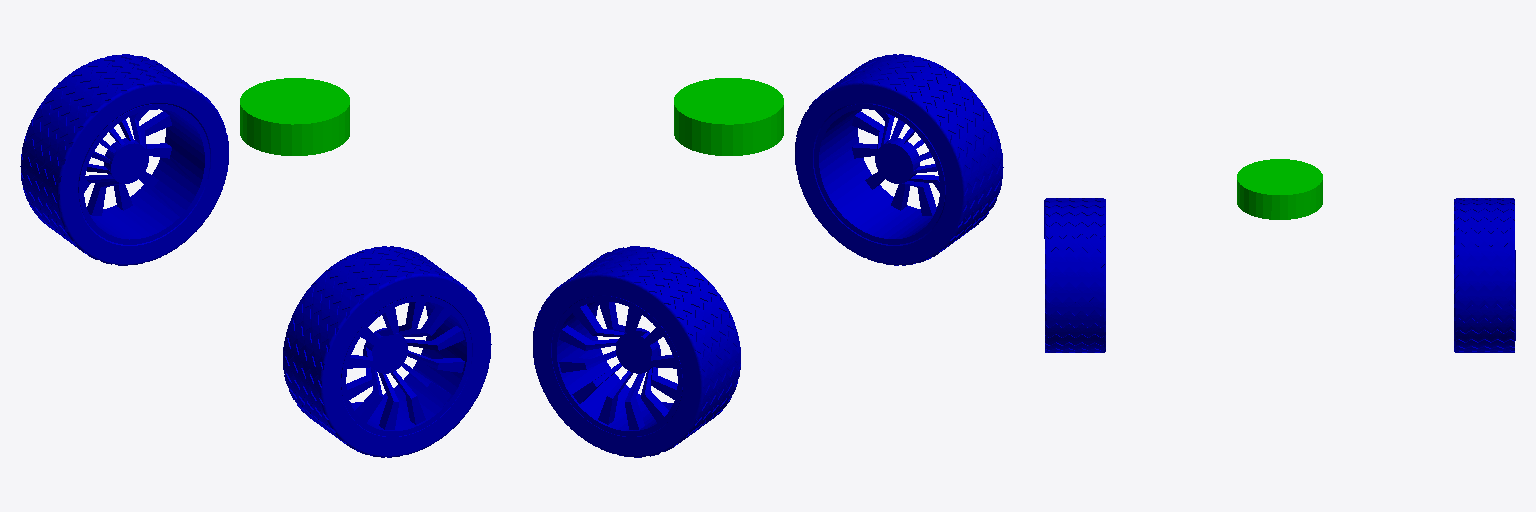
URDF robot description (R2MINI):
<?xml version="1.0" encoding="UTF-8"?>
<robot name="R2MINI" xmlns:xacro="http://www.ros.org/wiki/xacro">

    <material name="black">
        <color rgba="0.0 0.0 0.0 1.0"/>
    </material>

    <material name="dark">
        <color rgba="0.3 0.3 0.3 1.0"/>
    </material>

    <material name="light_black">
        <color rgba="0.4 0.4 0.4 1.0"/>
    </material>

    <material name="blue">
        <color rgba="0.0 0.0 0.8 1.0"/>
    </material>

    <material name="green">
        <color rgba="0.0 0.8 0.0 1.0"/>
    </material>

    <material name="grey">
        <color rgba="0.5 0.5 0.5 1.0"/>
    </material>

    <material name="orange">
        <color rgba="1.0 0.4235 0.0392 1.0"/>
    </material>

    <material name="brown">
        <color rgba="0.588 0.294 0.0 1.0"/>
    </material>

    <material name="red">
        <color rgba="0.8 0.0 0.0 1.0"/>
    </material>

    <material name="white">
        <color rgba="1.0 1.0 1.0 1.0"/>
    </material>

    <material name="yellow">
        <color rgba="1.0 1.0 0.0 1.0"/>
    </material>

    <link name="base_footprint"/>

    <joint name="base_joint" type="fixed">
        <origin xyz="0.0 0.0 0.018" rpy="0.0 0.0 0.0"/>
        <parent link="base_footprint"/>
        <child link="base_link"/>
    </joint>

    <link name="base_link">
        <visual>
            <origin xyz="-0.037 0.0 0.065" rpy="0.0 0.0 1.57"/>
            <geometry>
                <mesh filename="package://omorobot_description/meshes/bases/R2MINI_BODY.stl" scale="0.001 0.001 0.001"/>
            </geometry>
            <material name="brown"/>
        </visual>
        <collision>
            <origin xyz="-0.037 0.0 0.06" rpy="0.0 0.0 0.0"/>
            <geometry>
                <box size="0.2 0.19 0.16"/>
            </geometry>
        </collision>
    </link>

    <joint name="wheel_left_joint" type="continuous">
        <origin xyz="0.0 0.09 0.015" rpy="-1.57 0.0 0.0"/>
        <parent link="base_link"/>
        <child link="wheel_left_link"/>
        <axis xyz="0.0 0.0 1.0"/>
    </joint>

    <link name="wheel_left_link">
        <visual>
            <origin xyz="0.034 -0.034 -0.0135" rpy="0.0 -1.57 0.0"/>
            <geometry>
                <mesh filename="package://omorobot_description/meshes/wheels/R2MINI_WHEEL.stl" scale="0.001 0.001 0.001"/>
            </geometry>
            <material name="blue"/>
        </visual>
        <collision>
            <origin xyz="0.0 0.0 0.0" rpy="0.0 0.0 0.0"/>
            <geometry>
                <cylinder radius="0.034" length="0.027"/>
            </geometry>
        </collision>
    </link>

    <joint name="wheel_right_joint" type="continuous">
        <origin xyz="0.0 -0.09 0.015" rpy="-1.57 0.0 0.0"/>
        <parent link="base_link"/>
        <child link="wheel_right_link"/>
        <axis xyz="0.0 0.0 1.0"/>
    </joint>

    <link name="wheel_right_link">
        <visual>
            <origin xyz="-0.034 -0.034 0.0135" rpy="0.0 1.57 0.0"/>
            <geometry>
                <mesh filename="package://omorobot_description/meshes/wheels/R2MINI_WHEEL.stl" scale="0.001 0.001 0.001"/>
            </geometry>
            <material name="blue"/>
        </visual>
        <collision>
            <origin xyz="0.0 0.0 0.0" rpy="0.0 0.0 0.0"/>
            <geometry>
                <cylinder radius="0.034" length="0.027"/>
            </geometry>
        </collision>
    </link>

    <!-- <joint name="imu_joint" type="fixed">
        <origin xyz="-0.02 0.02 0.05" rpy="0.0 0.0 0.0"/>
        <parent link="base_link"/>
        <child link="imu_link"/>
    </joint>

    <link name="imu_link"/> -->

    <joint name="scan_joint" type="fixed">
        <origin xyz="0.0155 0.0 0.064" rpy="3.14 0.0 0.0"/>
        <parent link="base_link"/>
        <child link="base_scan"/>
        <axis xyz="0.0 0.0 0.0"/>
    </joint>

    <link name="base_scan">
        <visual>
            <origin xyz="0.0 0.0 0.0" rpy="0.0 0.0 0.0"/>
            <geometry>
                <cylinder radius="0.019" length="0.012"/>
            </geometry>
            <material name="green"/>
        </visual>
        <collision>
            <origin xyz="0.0 0.0 0.0" rpy="0.0 0.0 0.0"/>
            <geometry>
                <cylinder radius="0.019" length="0.012"/>
            </geometry>
        </collision>
    </link>

</robot>

--- Render facts (derived) ---
3 views of the same robot in one strip: view 1: azimuth 30°, elevation 25°; view 2: azimuth 150°, elevation 25°; view 3: azimuth 270°, elevation 25° (orthographic).
Robot: R2MINI — 5 links, 4 joints (2 continuous, 2 fixed); root link base_footprint; default pose: every joint at zero.
Links seen in each view (by area): view 1: wheel_right_link, wheel_left_link, base_scan; view 2: wheel_right_link, wheel_left_link, base_scan; view 3: wheel_left_link, wheel_right_link, base_scan.
Link boxes in pixels (x1,y1,x2,y2): wheel_right_link: [283, 246, 491, 457]; wheel_left_link: [20, 54, 228, 265]; base_scan: [240, 78, 349, 155]; wheel_right_link: [795, 54, 1003, 265]; wheel_left_link: [533, 246, 740, 457]; base_scan: [674, 78, 783, 155]; wheel_left_link: [1454, 198, 1515, 352]; wheel_right_link: [1044, 198, 1105, 352]; base_scan: [1237, 159, 1322, 219].
Size in the robot's own frame: 0.0685 by 0.2071 by 0.089 metres.
2 mesh visuals loaded from 2 distinct referenced files (1 binary STL); not drawn: 1 (reference not matched to a file when rendering).